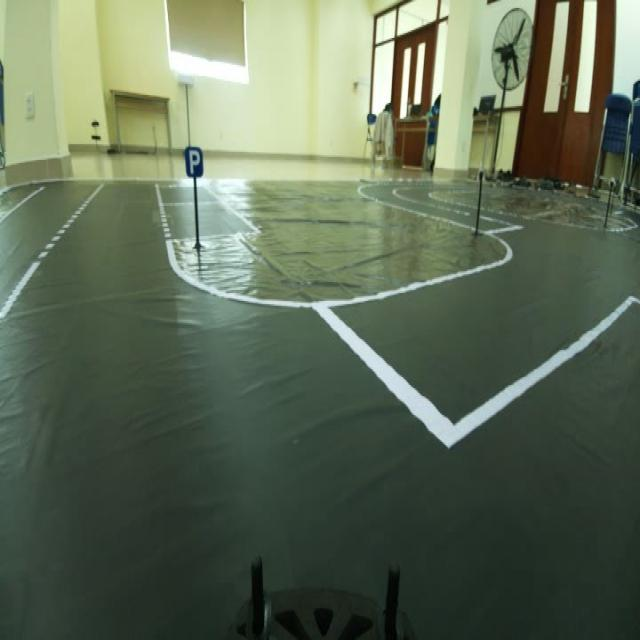parking: (183, 136, 210, 186)
